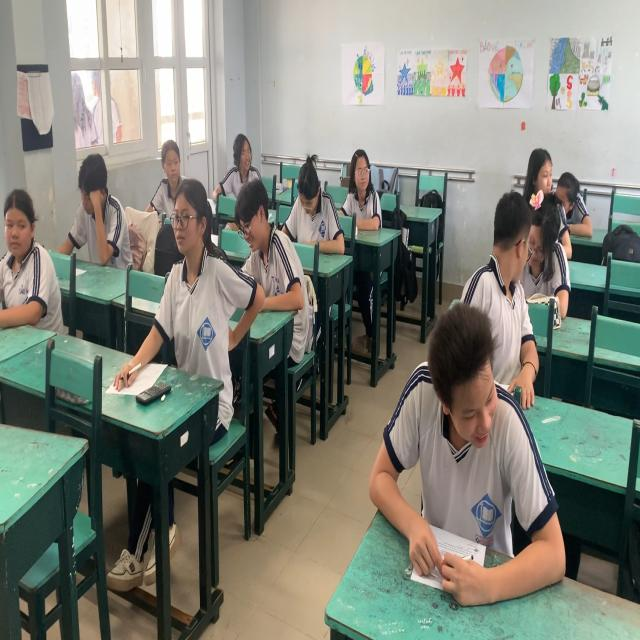cheating: (476, 185, 544, 370), (233, 174, 304, 312), (223, 119, 258, 188)
not_cheating: (380, 309, 544, 575), (166, 176, 232, 346), (283, 149, 355, 268), (61, 156, 128, 271), (521, 139, 592, 243), (0, 177, 50, 322), (339, 142, 388, 236), (151, 130, 190, 202)
